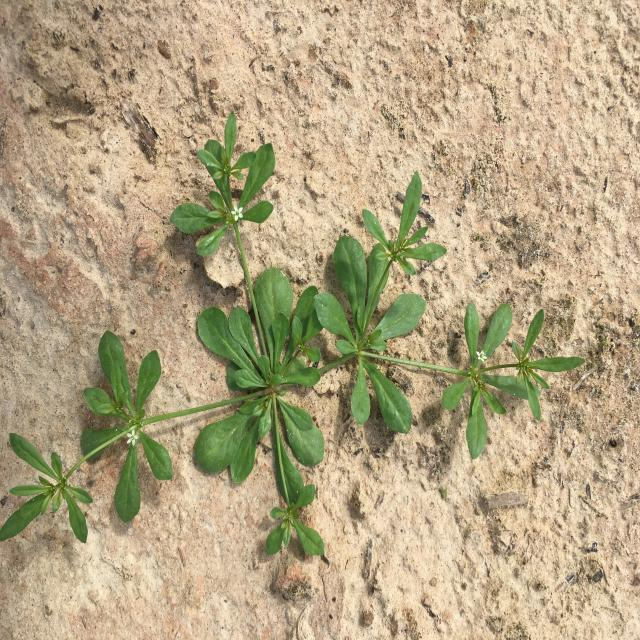Carpetweed: (0, 110, 585, 556)
